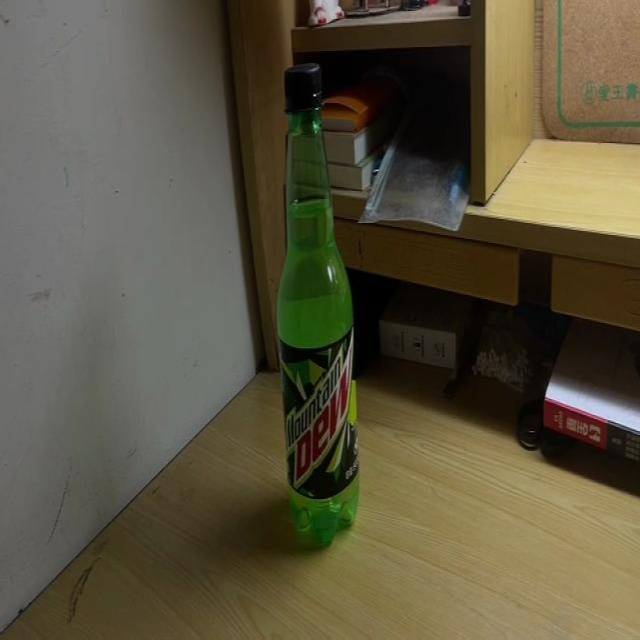Mountain-Dew: (278, 63, 360, 554)
